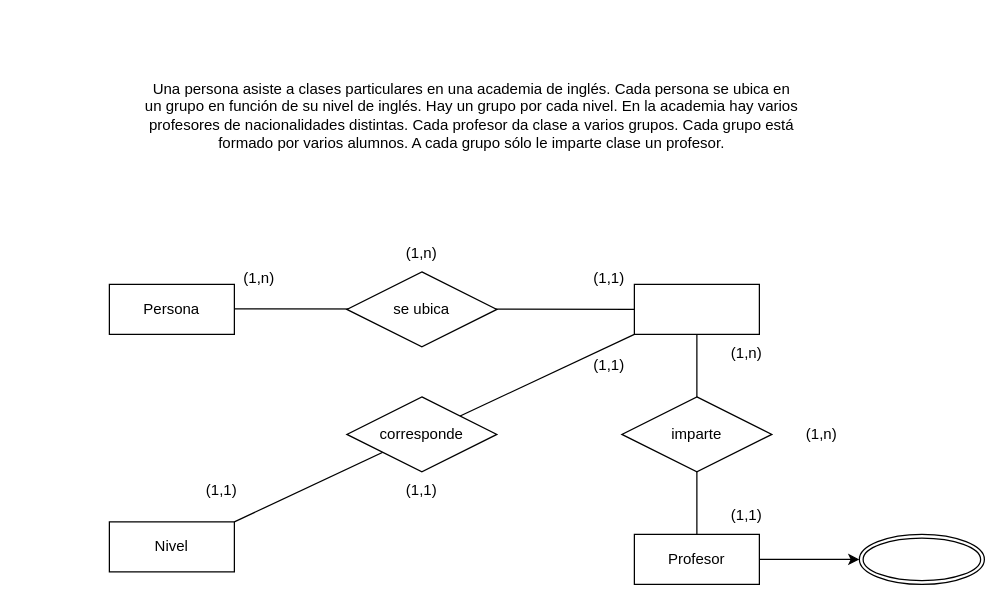
Image size: 1006x606. Some labels were removed from this diagram. The box of each missing label's shape, as (x1, y1, x2, y2) in pixels:
Grupo: (633, 283, 759, 334)
nacionalidad: (858, 533, 984, 584)
